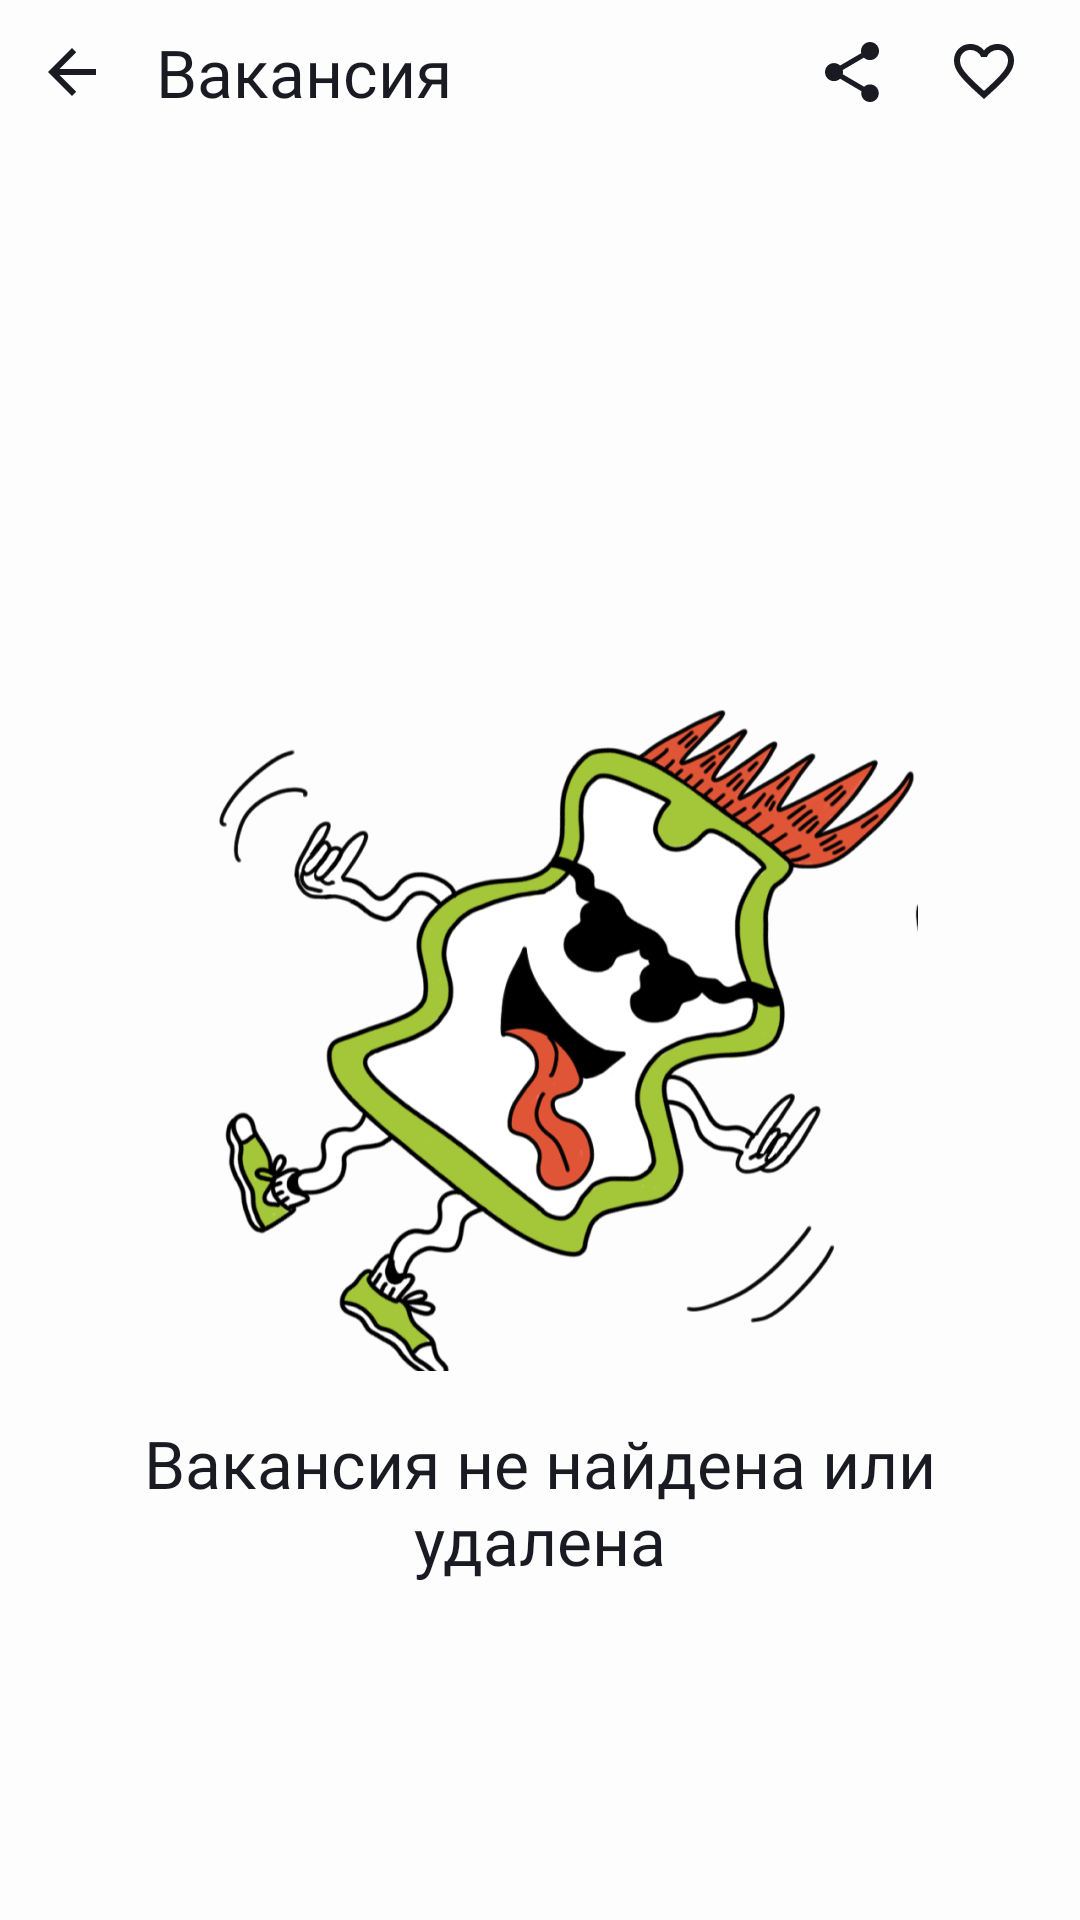

Named icons in this screenshot (1080px x 1920px) and their bounding boxes, (x1, y1, x2, y2):
back arrow: (48, 48, 96, 96)
favorite off: (954, 44, 1014, 99)
